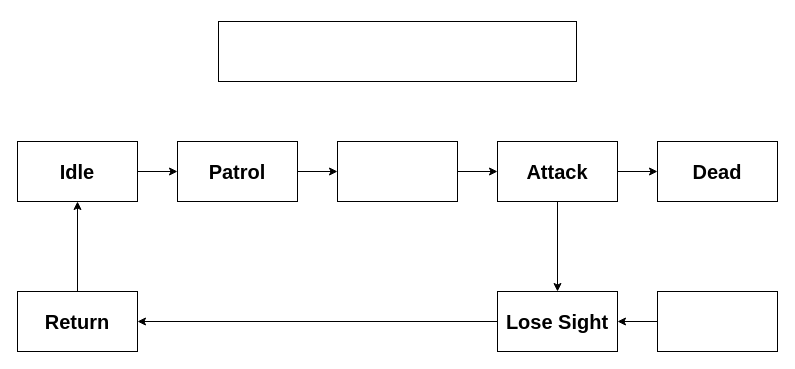
Image size: 795x369. Some labels were removed from this diagram. The shapes that lost their labels are listed below. From the top down, each one's centre as x and y in pixels, then its label:
At point 397,51: "AI Finite State Machine".
At point 397,171: "Chase".
At point 717,321: "Take Damage".
